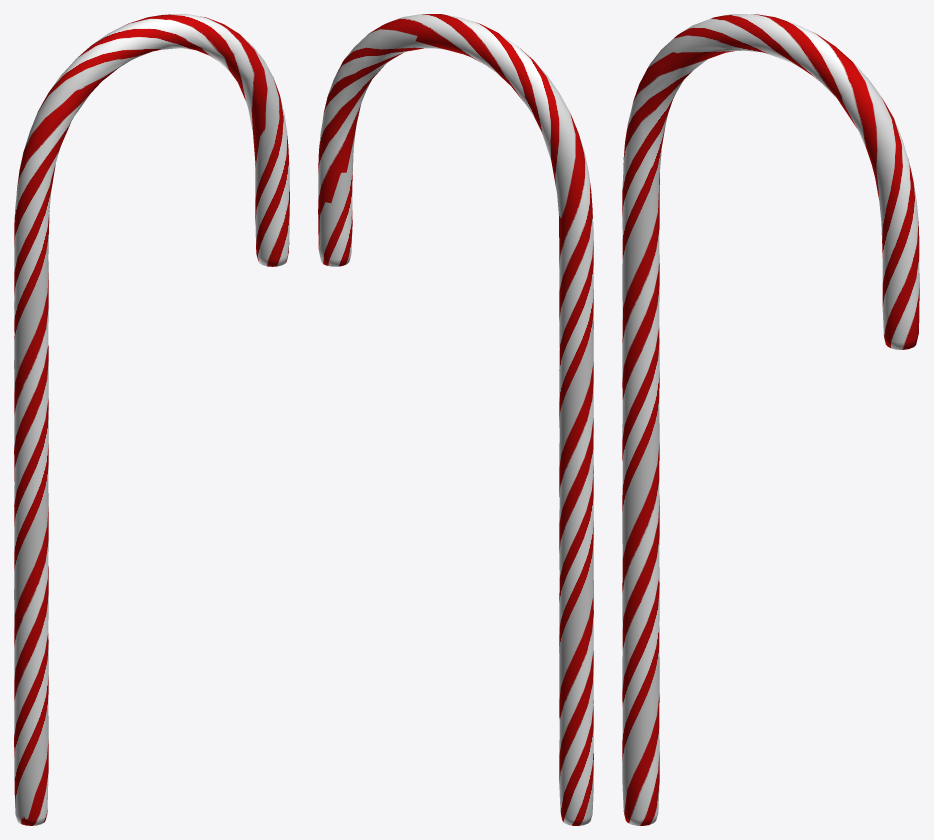
Rendered from bastonCaramelo.fbx.
3 renders of one model, left to right at view 1: azimuth 30°, elevation 25°; view 2: azimuth 150°, elevation 25°; view 3: azimuth 330°, elevation 25°, orthographic. The views are drawn at different scales.
Parts seen in each view (by area): view 1: CandyCane; view 2: CandyCane; view 3: CandyCane.
Part boxes in pixels (box(x1,y1,x2,y2)): CandyCane: box(14, 14, 289, 825); CandyCane: box(318, 14, 593, 825); CandyCane: box(622, 14, 919, 825).
Bounding box in the file's own units: 125 × 343 × 13.95.
